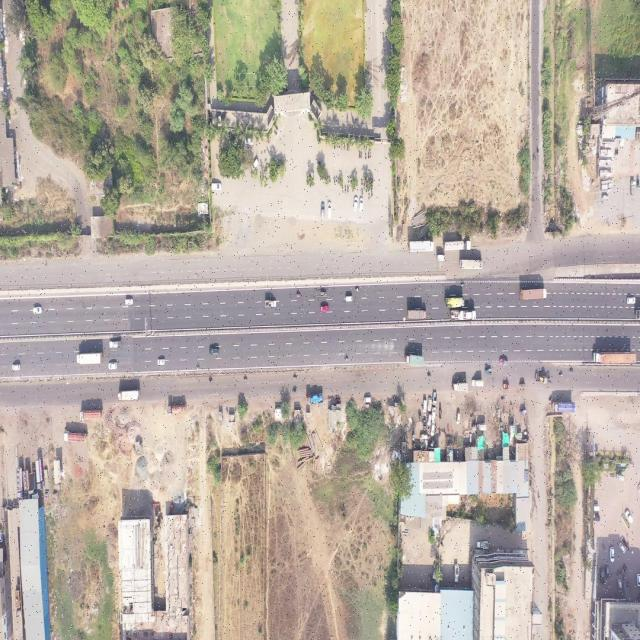3W: (519, 407, 528, 417), (502, 383, 509, 390), (485, 367, 492, 374), (518, 382, 526, 388)
Cars: (608, 546, 616, 563), (625, 508, 633, 524), (244, 135, 254, 147), (251, 158, 259, 171), (211, 182, 222, 191), (499, 356, 508, 367), (618, 542, 626, 554), (327, 201, 332, 220), (617, 578, 623, 593), (320, 304, 330, 313), (32, 305, 42, 314), (209, 347, 219, 356), (626, 296, 636, 305), (600, 568, 605, 585), (108, 361, 117, 370), (353, 196, 358, 212), (359, 196, 364, 212), (344, 295, 354, 303), (320, 201, 324, 220), (124, 298, 133, 306), (12, 363, 21, 371), (456, 410, 461, 424), (421, 399, 426, 413), (636, 572, 640, 589), (427, 396, 431, 412), (157, 358, 165, 366), (432, 408, 436, 423), (364, 396, 371, 404), (426, 414, 430, 426), (559, 370, 563, 378)
LCV: (474, 540, 488, 551), (471, 379, 484, 388), (109, 339, 122, 348), (454, 564, 459, 586), (265, 300, 276, 308), (436, 254, 445, 262)
M2W: (354, 284, 360, 294), (296, 290, 302, 299), (427, 370, 433, 378), (344, 353, 349, 362), (459, 281, 465, 288), (242, 375, 248, 381), (208, 377, 214, 383), (569, 367, 574, 374), (196, 362, 200, 370), (358, 149, 361, 159), (293, 374, 297, 381), (347, 174, 350, 183), (360, 177, 363, 186), (369, 151, 372, 160), (328, 175, 331, 184), (364, 152, 367, 161), (343, 143, 346, 150), (344, 183, 346, 193), (368, 191, 370, 201), (334, 175, 336, 184), (338, 144, 341, 150), (262, 171, 264, 180), (342, 185, 344, 194), (537, 146, 539, 155), (338, 176, 340, 184), (347, 186, 349, 193)
MAV: (591, 351, 640, 366), (442, 240, 471, 252)
Truck: (64, 429, 88, 444), (408, 240, 435, 253), (76, 352, 103, 365), (551, 401, 577, 414), (457, 361, 478, 377), (79, 409, 104, 422), (520, 288, 547, 300), (117, 389, 141, 402), (459, 258, 484, 270), (406, 306, 427, 320), (450, 309, 476, 320), (404, 352, 424, 366), (306, 392, 324, 407), (167, 403, 187, 416), (445, 296, 464, 307), (452, 382, 468, 392)
